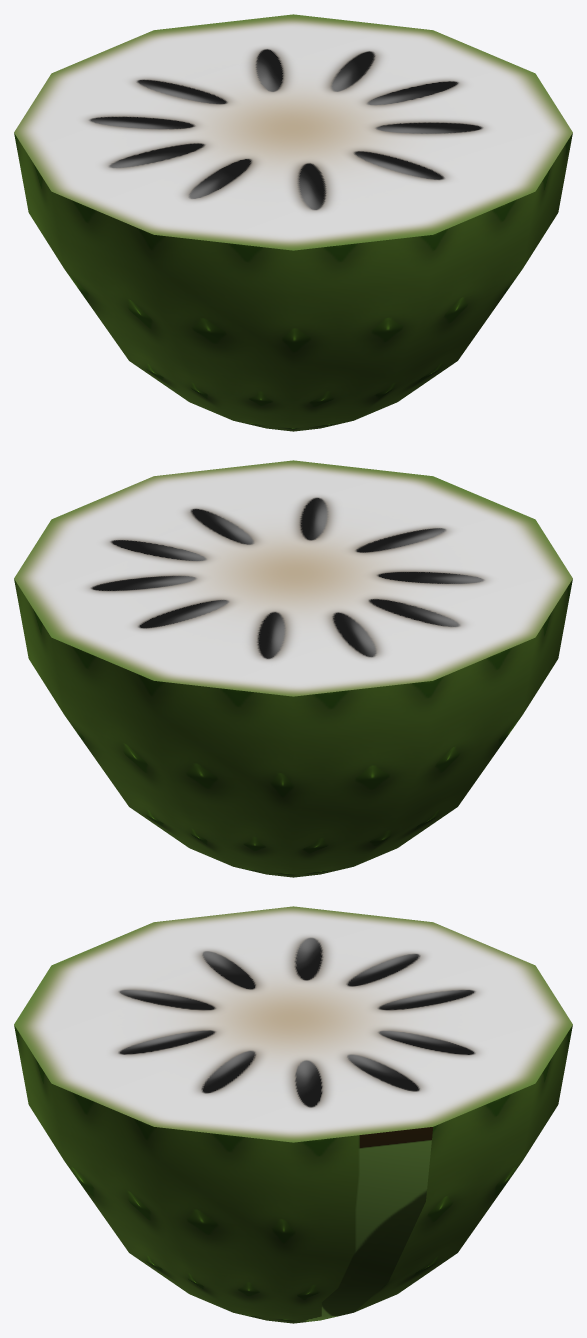
File: Cherimoya_Half_01.fbx
The picture shows the model from 3 angles, top to bottom: view 1: azimuth 30°, elevation 25°; view 2: azimuth 150°, elevation 25°; view 3: azimuth 270°, elevation 25°; orthographic projection.
Parts seen in each view (by area): view 1: Cherimoya_Half_01; view 2: Cherimoya_Half_01; view 3: Cherimoya_Half_01.
Part boxes in pixels (box(x1,y1,x2,y2)): Cherimoya_Half_01: box(14, 14, 572, 431); Cherimoya_Half_01: box(14, 460, 572, 877); Cherimoya_Half_01: box(14, 906, 572, 1323).
Size of the model in its own units: 42.43 by 24.46 by 42.43.
